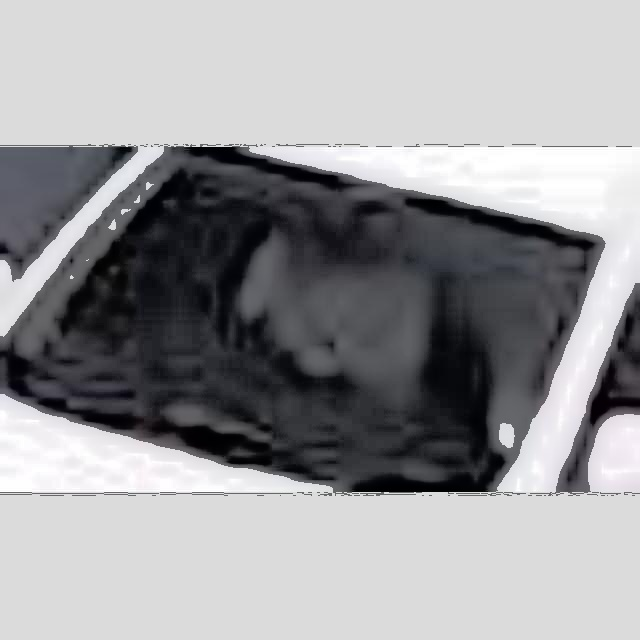tidak-pakai: (185, 198, 455, 425)
